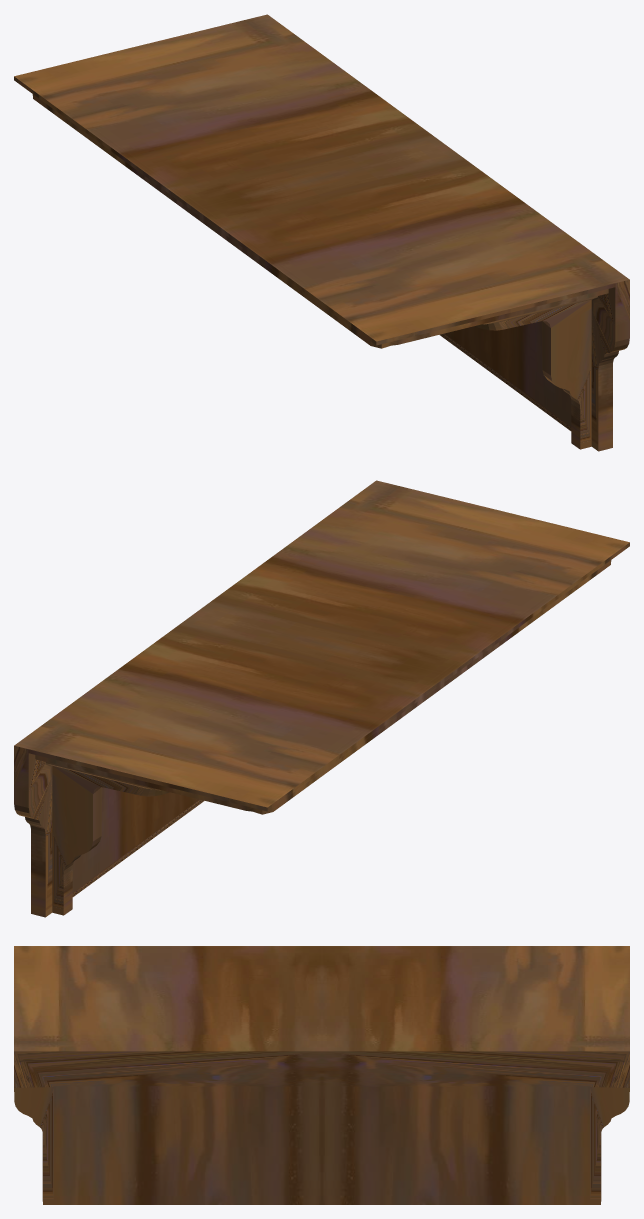
The model's file is Shelf 1.fbx.
The picture shows the model from 3 angles, top to bottom: view 1: azimuth 30°, elevation 25°; view 2: azimuth 150°, elevation 25°; view 3: azimuth 270°, elevation 25°; orthographic projection. The views are drawn at different scales.
Visible parts, largest first — view 1: Cube.001; view 2: Cube.001; view 3: Cube.001.
Boxes of the visible parts, bbox=[...] form: Cube.001: bbox=[14, 14, 629, 451]; Cube.001: bbox=[14, 480, 629, 917]; Cube.001: bbox=[14, 946, 629, 1204].
Size of the model in its own units: 50.86 by 34.62 by 126.
2 materials, 2 textured.
